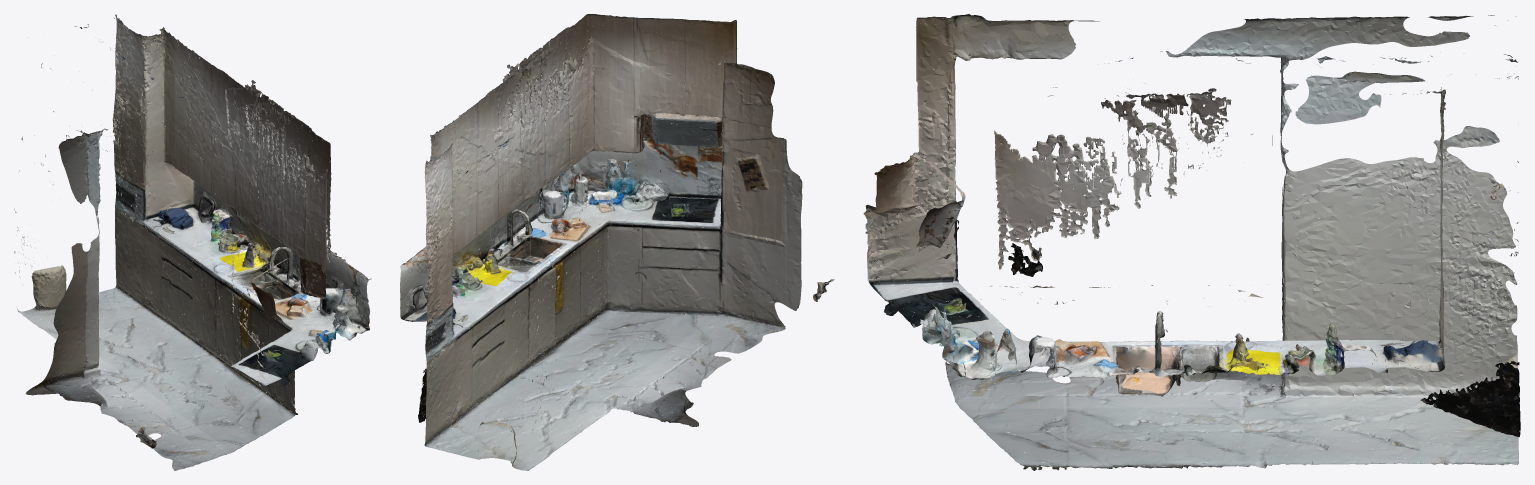
Rendered from kitchen.glb.
3 renders of one model, left to right at view 1: azimuth 30°, elevation 25°; view 2: azimuth 150°, elevation 25°; view 3: azimuth 270°, elevation 25°, orthographic. The views are drawn at different scales.
Parts seen in each view (by area): view 1: Mesh_0, Mesh_1; view 2: Mesh_0, Mesh_1; view 3: Mesh_0, Mesh_1.
Boxes of the visible parts, <box> form: Mesh_0: <box>14,15,371,470</box>; Mesh_1: <box>14,14,360,464</box>; Mesh_0: <box>400,16,829,466</box>; Mesh_1: <box>400,14,834,470</box>; Mesh_0: <box>863,16,1520,470</box>; Mesh_1: <box>865,14,1518,470</box>.
Bounding box in the file's own units: 2.64 × 2.99 × 4.46.
Materials: 2 (2 with a texture image).
